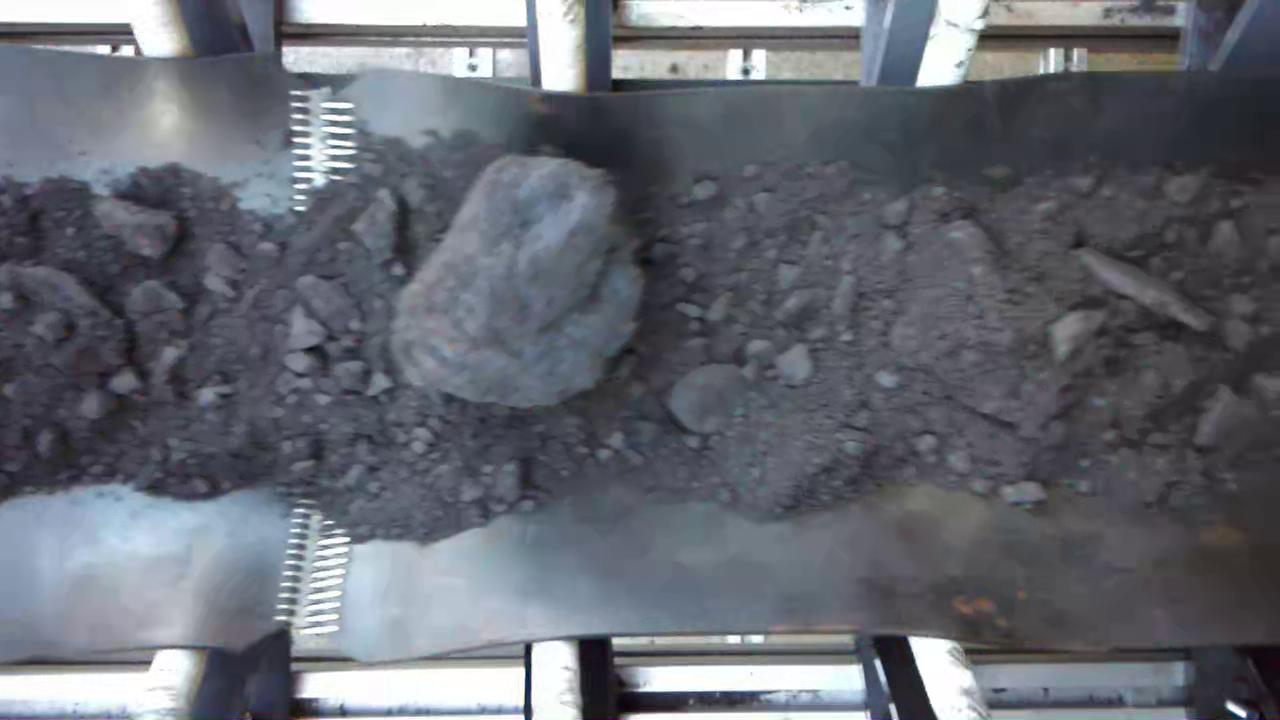conveyor: (5, 89, 1276, 641)
